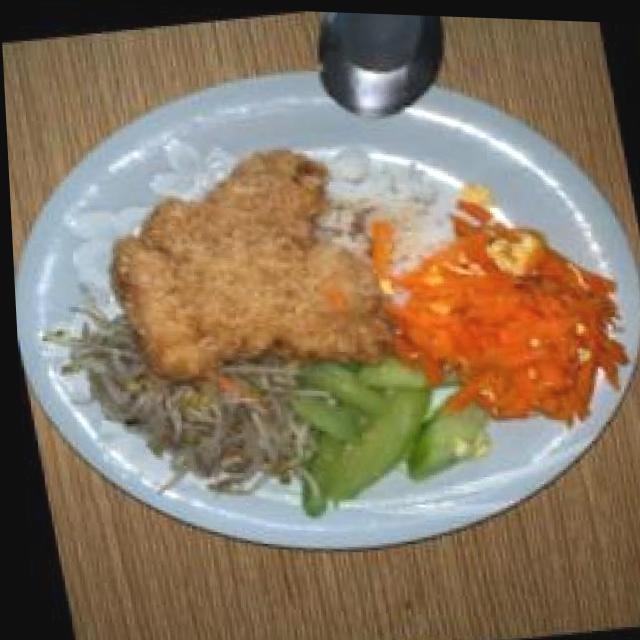carrot_eggs: (360, 178, 640, 441)
fried_chicken: (87, 125, 406, 394)
mung_bean_sprouts: (65, 287, 337, 517)
rice: (300, 132, 464, 291)
